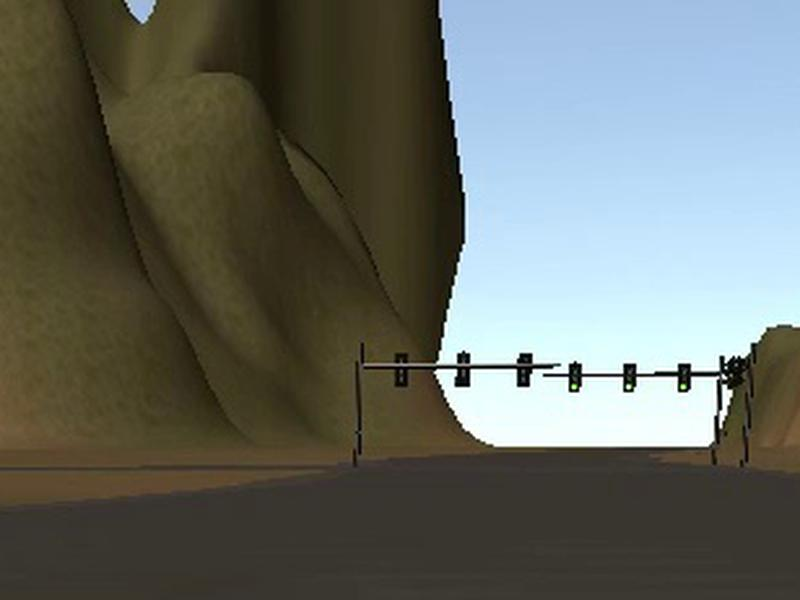Green: (622, 362, 637, 393), (677, 362, 692, 393), (569, 363, 582, 392)
